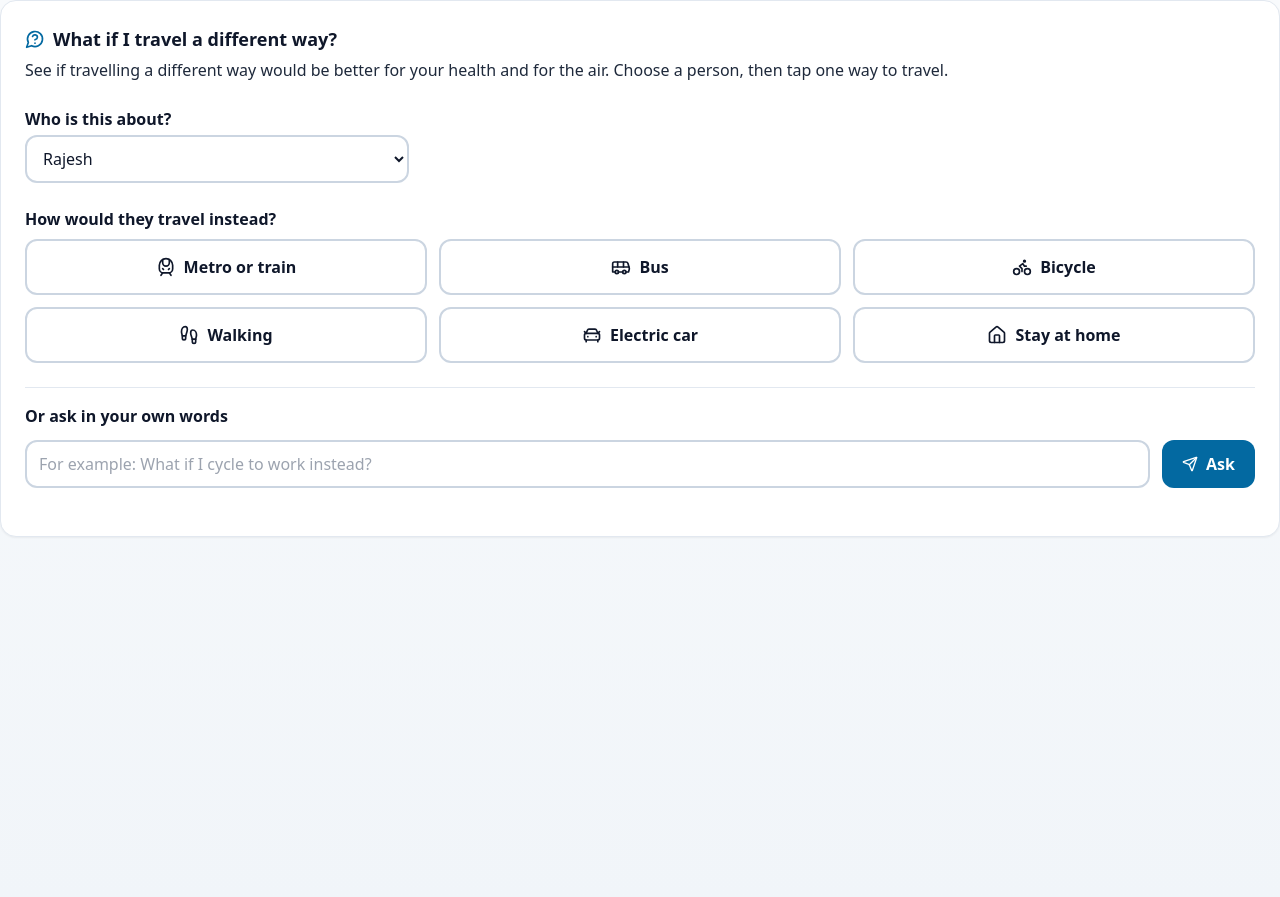
Test: WhatIfPanel › describes a worse result in plain words, with more fumes and dirtier air
Click the button "Bus". click: (640, 267)
box: [439,239,841,295]
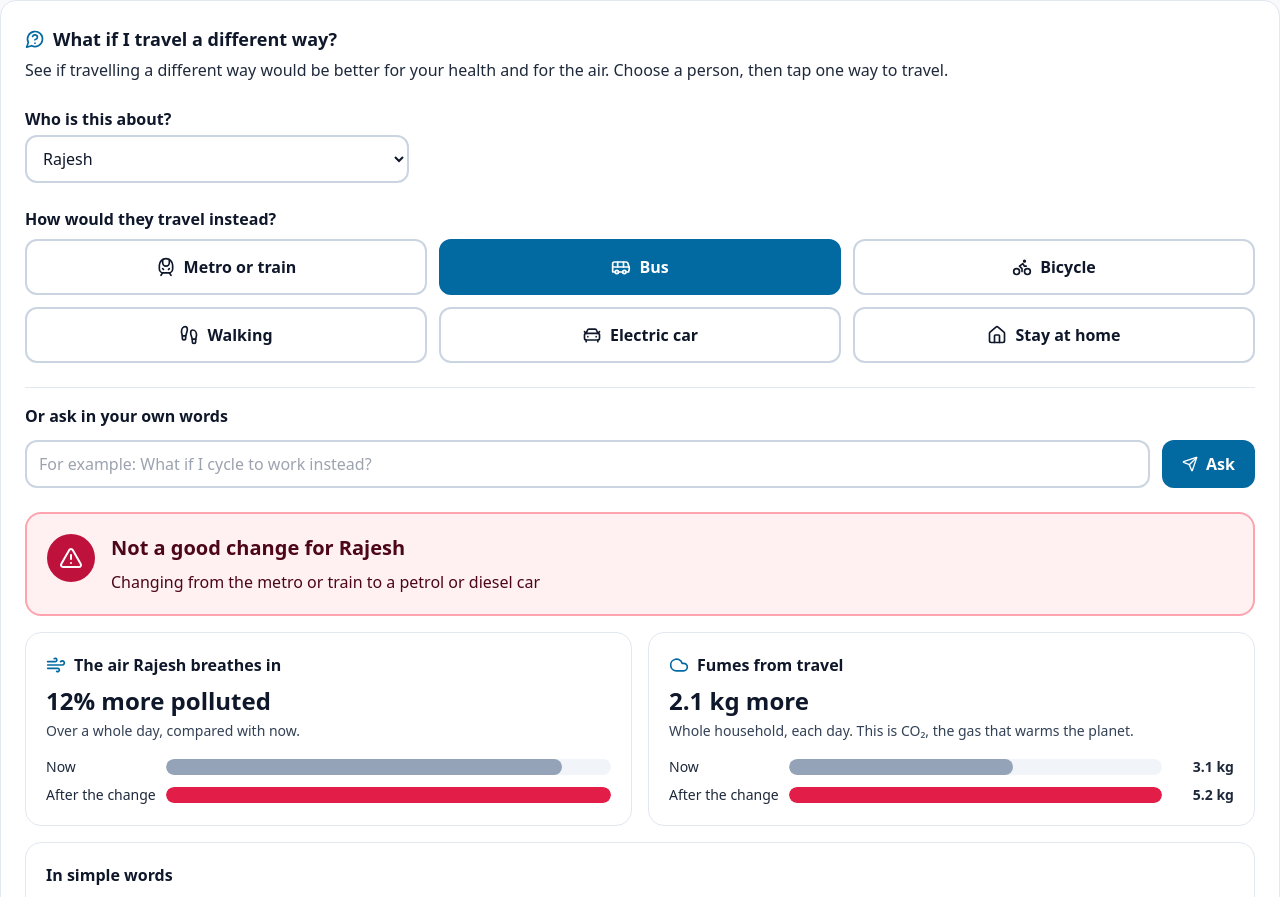
Expected: the heading "Not a good change for Rajesh" is shown, [111,534,405,561]
Expected: the text "12% more polluted" is shown, [46,684,271,716]
Expected: the text "2.1 kg more" is shown, [669,684,809,716]
